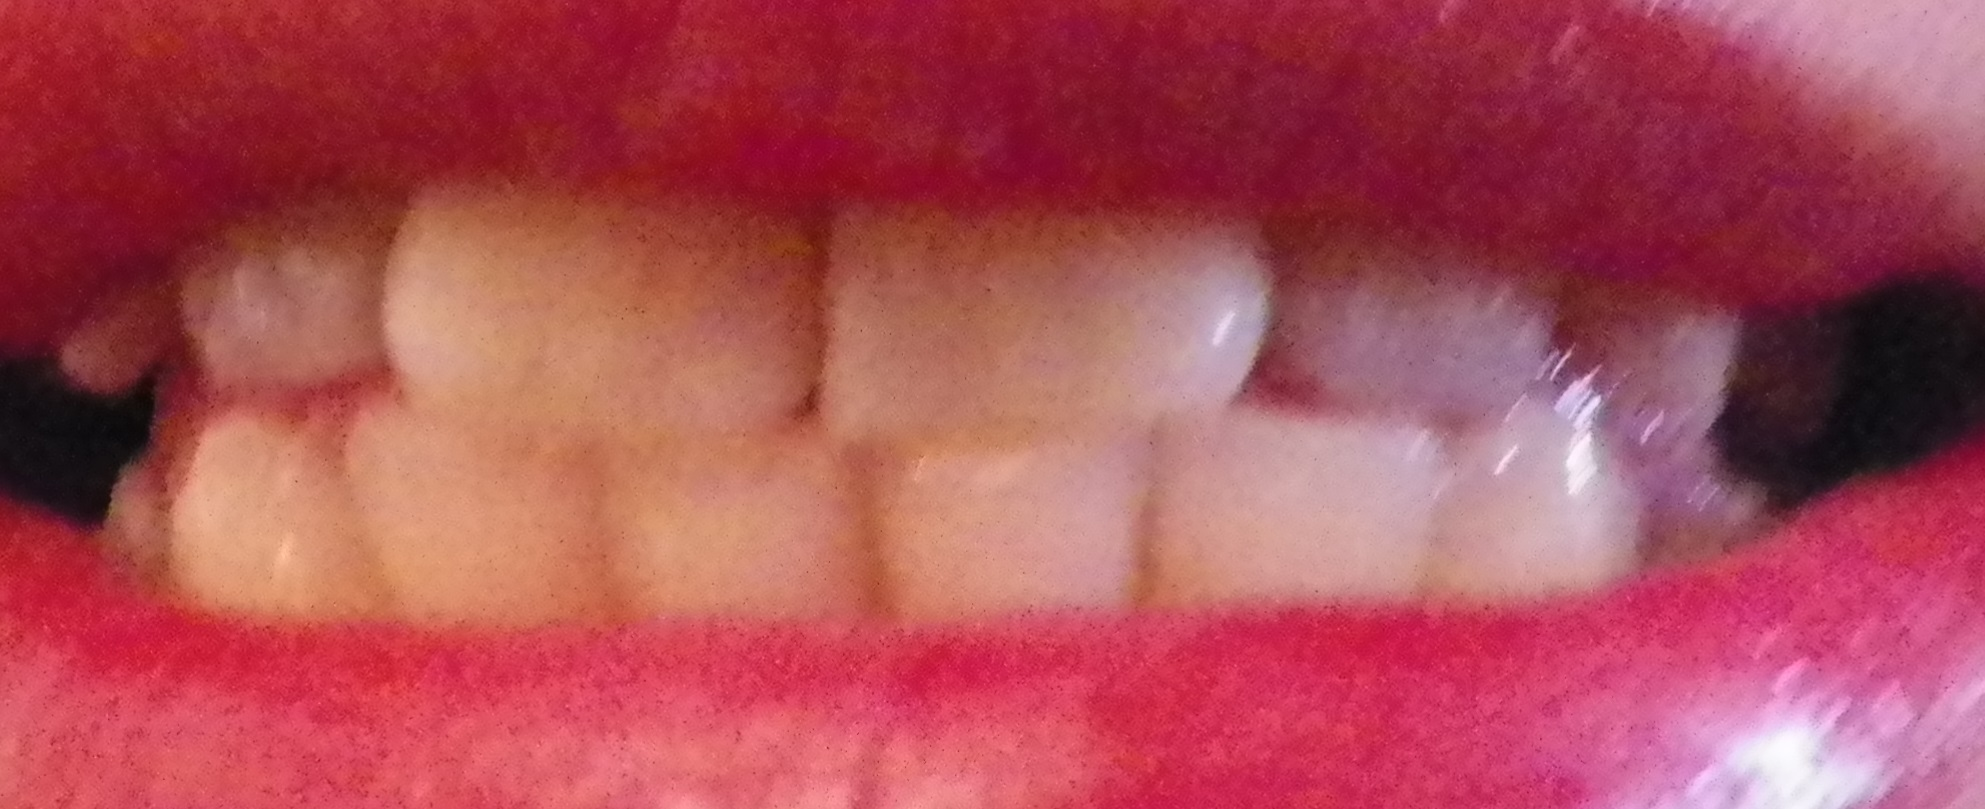boca: (51, 160, 1781, 599)
